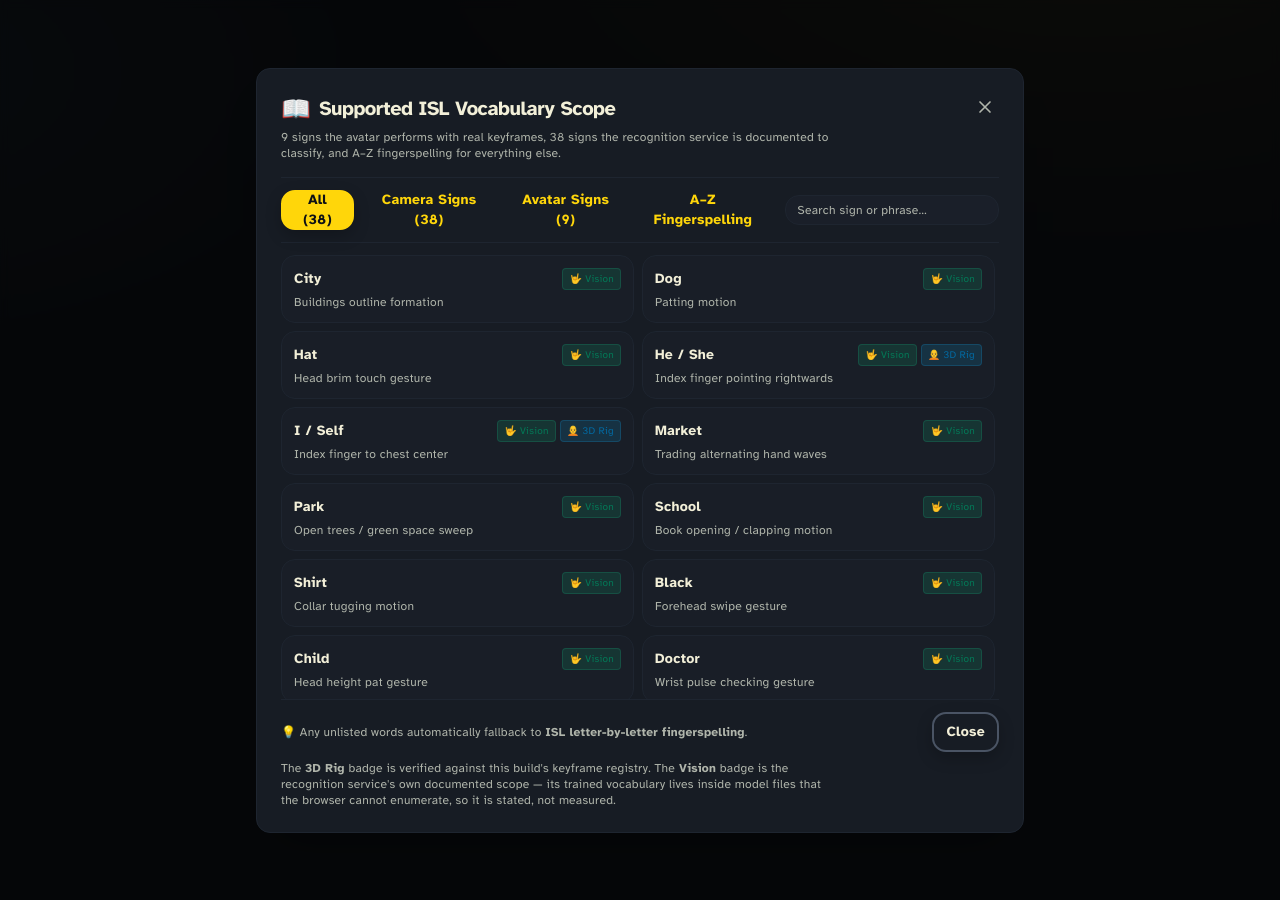
Test case: SupportedVocabularyModal scope disclosure › switches to A–Z fingerspelling fallback tab and lists alphabet poses
The width and height of the screenshot is (1280, 900).
Click the tab "A–Z Fingerspelling" at [703, 210], box [633,190,772,230]
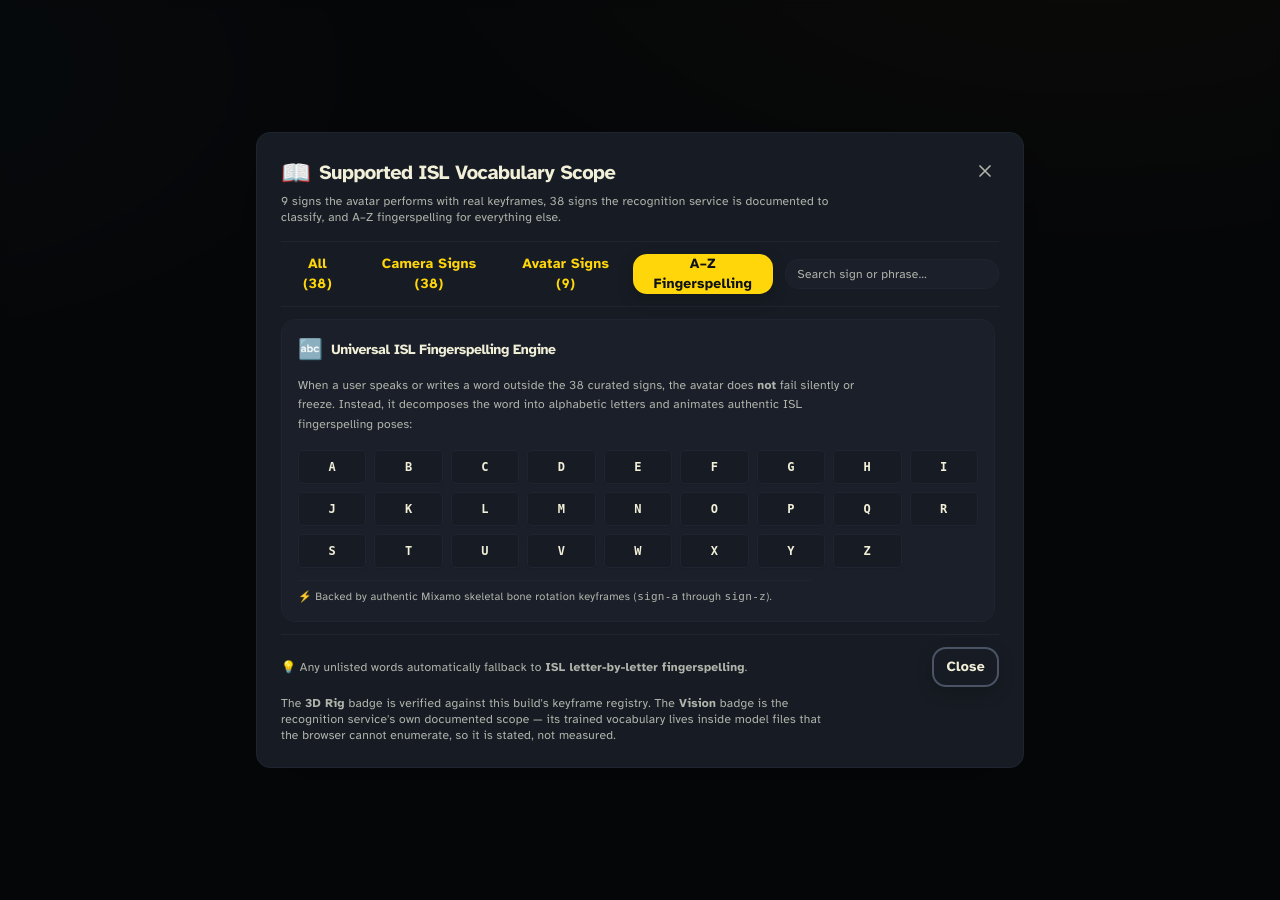
Now the heading "Universal ISL Fingerspelling Engine" is shown, box [331,340,556,360]
Now the text "Z" is shown, box [833,534,902,568]
